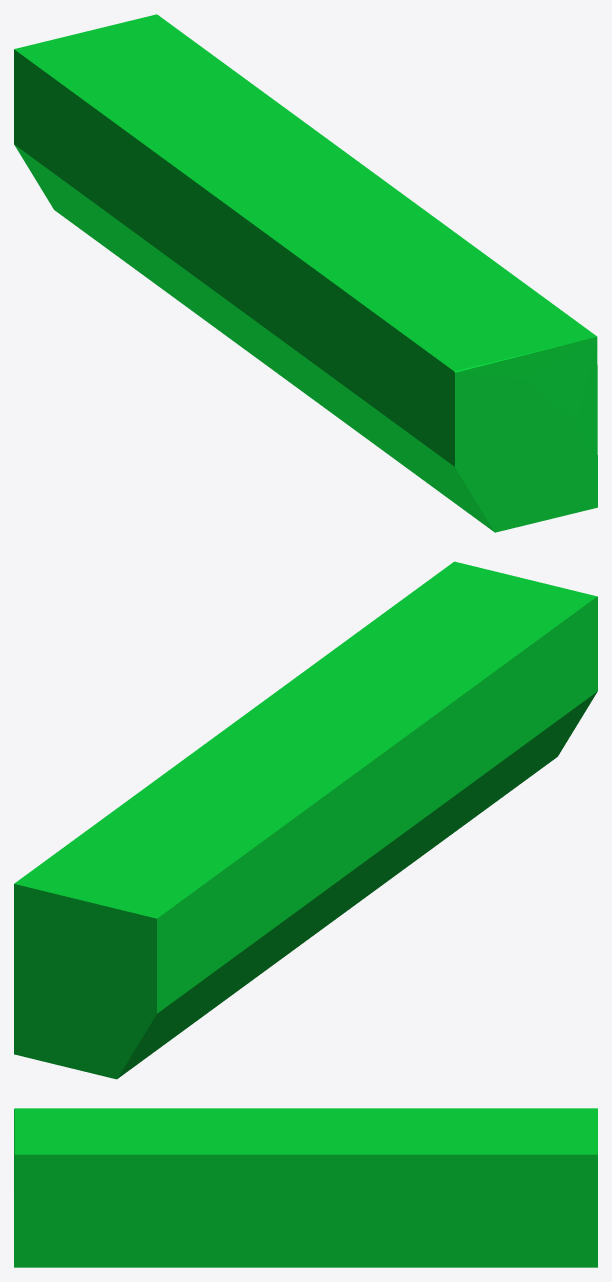
Rendered from simple_example_hole_part_67.obj.
3 renders of one model, top to bottom at view 1: azimuth 30°, elevation 25°; view 2: azimuth 150°, elevation 25°; view 3: azimuth 270°, elevation 25°, orthographic. The views are drawn at different scales.
Size of the model in its own units: 0.5354 by 0.61 by 2.86.
